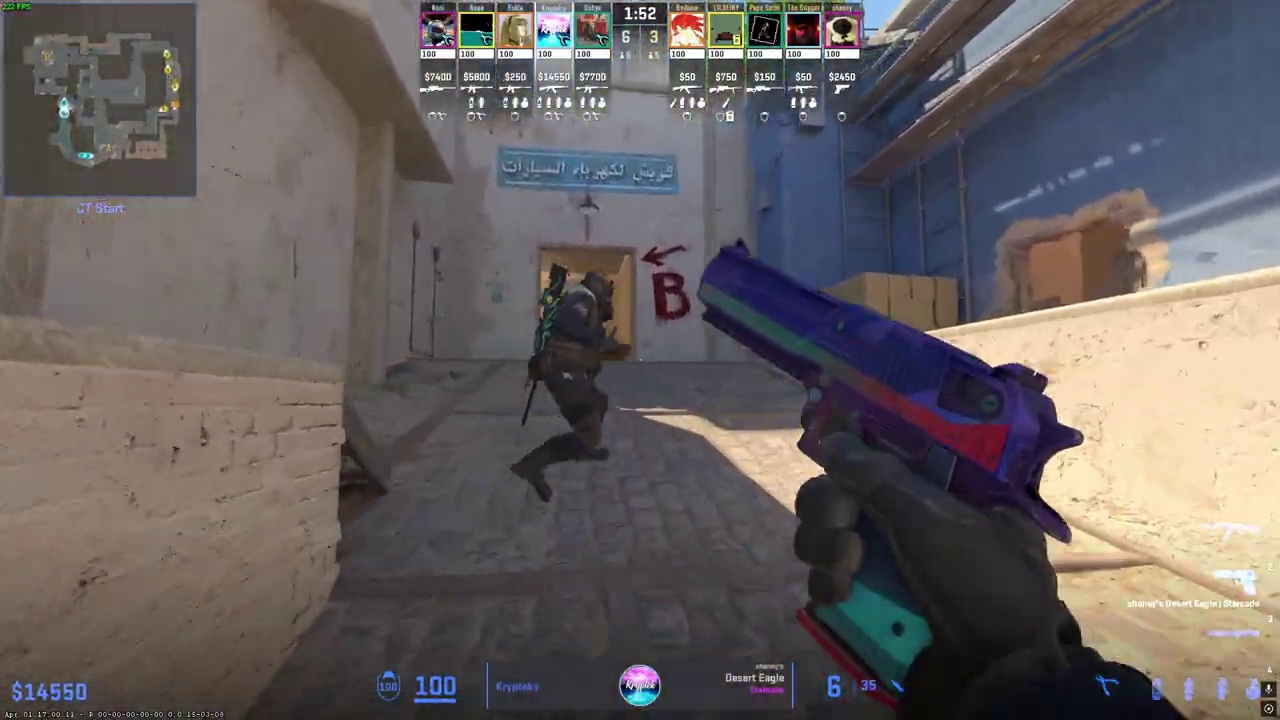CT: (515, 272, 623, 504)
